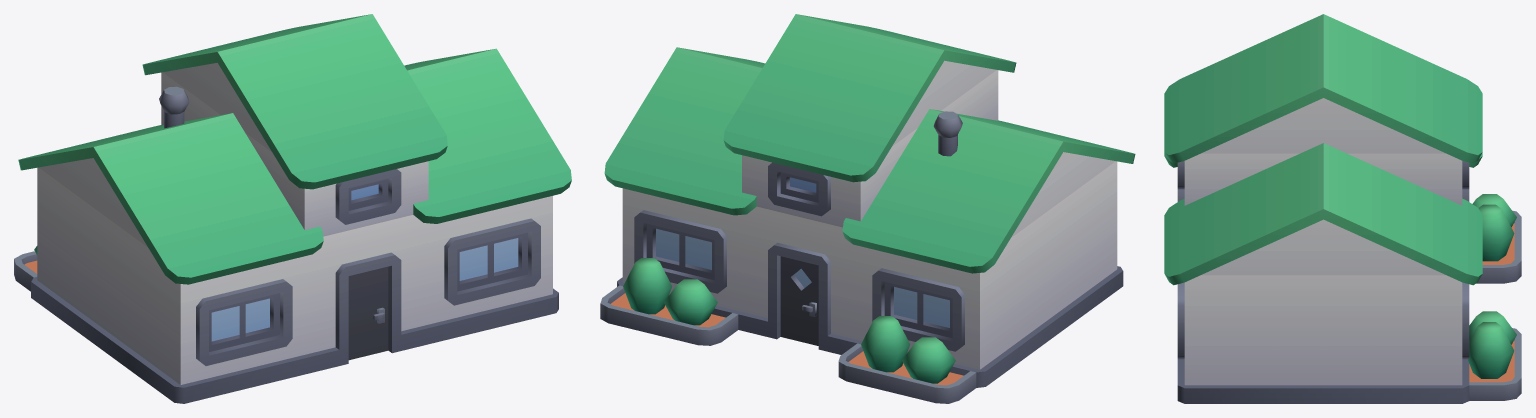
The model's file is house-a.glb.
The picture shows the model from 3 angles, left to right: view 1: azimuth 30°, elevation 25°; view 2: azimuth 150°, elevation 25°; view 3: azimuth 270°, elevation 25°; orthographic projection. The views are drawn at different scales.
Visible parts, largest first — view 1: building-type-a; view 2: building-type-a; view 3: building-type-a.
Boxes of the visible parts, bbox=[...] form: building-type-a: bbox=[14, 14, 571, 403]; building-type-a: bbox=[600, 14, 1135, 403]; building-type-a: bbox=[1164, 14, 1521, 403].
Size of the model in its own units: 1.3 by 0.8336 by 1.03.
Materials: 1 (1 with a texture image).
